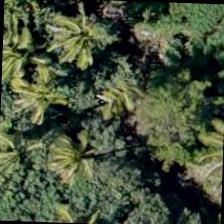Kelapa_Sawit: (22, 94, 116, 187), (0, 41, 88, 135), (23, 0, 117, 87)
